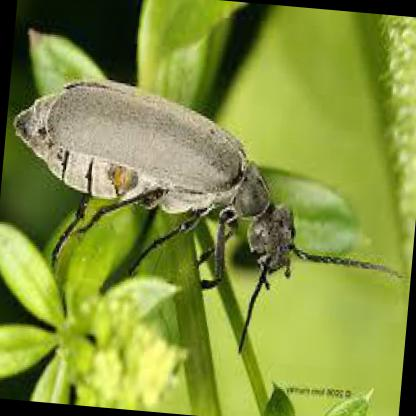blister beetle: (14, 75, 397, 347)
